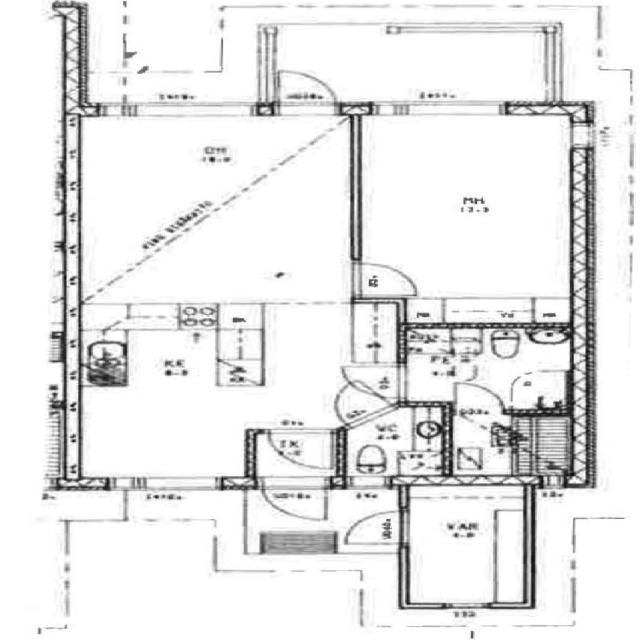door: (256, 427, 340, 483), (270, 67, 341, 118), (256, 476, 333, 523), (347, 259, 426, 300), (338, 509, 408, 550), (345, 362, 409, 403), (449, 381, 506, 413)
window: (337, 122, 380, 264), (102, 100, 264, 126), (368, 97, 518, 122), (136, 474, 225, 494), (564, 119, 599, 160), (433, 600, 496, 616)
zone: (77, 110, 357, 300), (71, 300, 347, 482), (354, 113, 588, 317), (400, 482, 530, 609), (397, 325, 578, 408), (105, 0, 228, 80), (447, 409, 578, 482), (338, 406, 453, 484)
